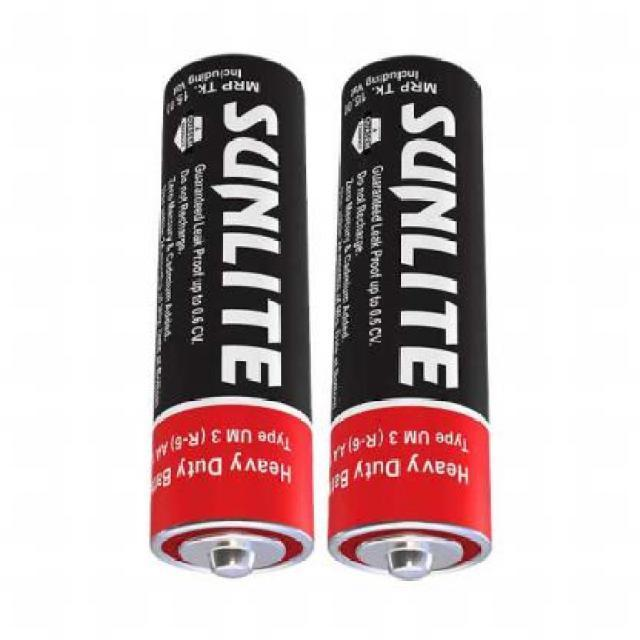AA: (143, 46, 317, 585), (322, 54, 496, 588)
